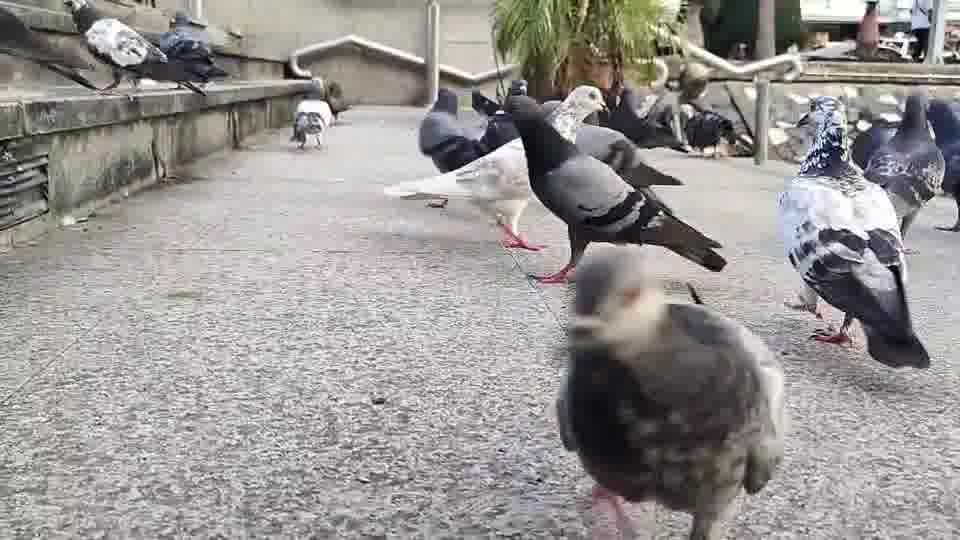Pigeon: (554, 244, 786, 538), (400, 82, 684, 252), (496, 85, 727, 284), (776, 97, 931, 369), (62, 0, 210, 97), (850, 94, 946, 241), (0, 0, 101, 92), (924, 94, 959, 232)
